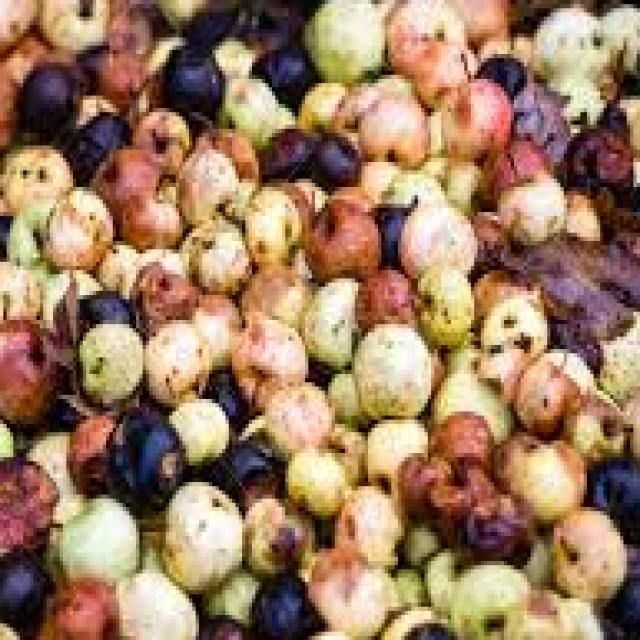inorganic: (16, 10, 625, 618)
